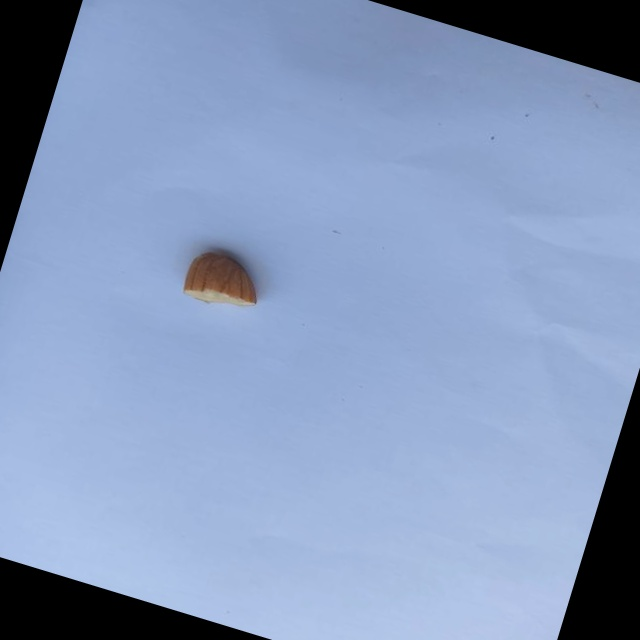grade4: (172, 237, 278, 323)
